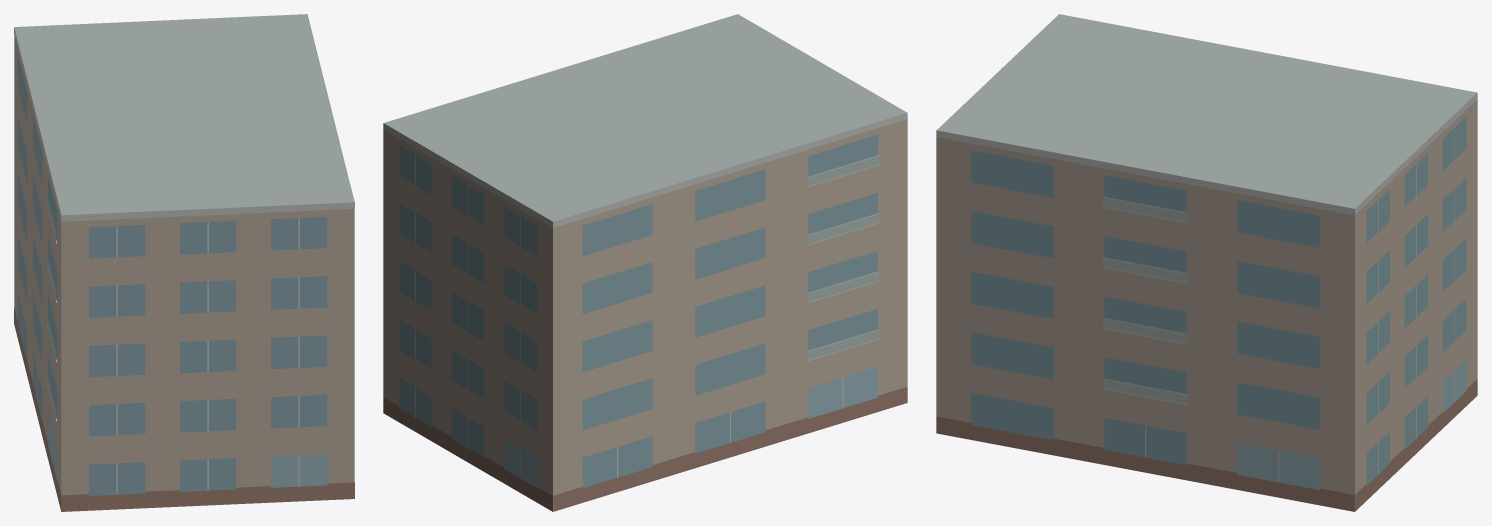
File: survey-upis-33046013.glb
3 renders of one model, left to right at view 1: azimuth 30°, elevation 25°; view 2: azimuth 150°, elevation 25°; view 3: azimuth 270°, elevation 25°, orthographic. The views are drawn at different scales.
Parts seen in each view (by area): view 1: survey-upis-33046013.tmp; view 2: survey-upis-33046013.tmp; view 3: survey-upis-33046013.tmp.
Part boxes in pixels (bbox=[...]): survey-upis-33046013.tmp: bbox=[14, 14, 354, 511]; survey-upis-33046013.tmp: bbox=[383, 14, 907, 511]; survey-upis-33046013.tmp: bbox=[936, 14, 1477, 511].
Size of the model in its own units: 15.46 by 11.2 by 18.14.
